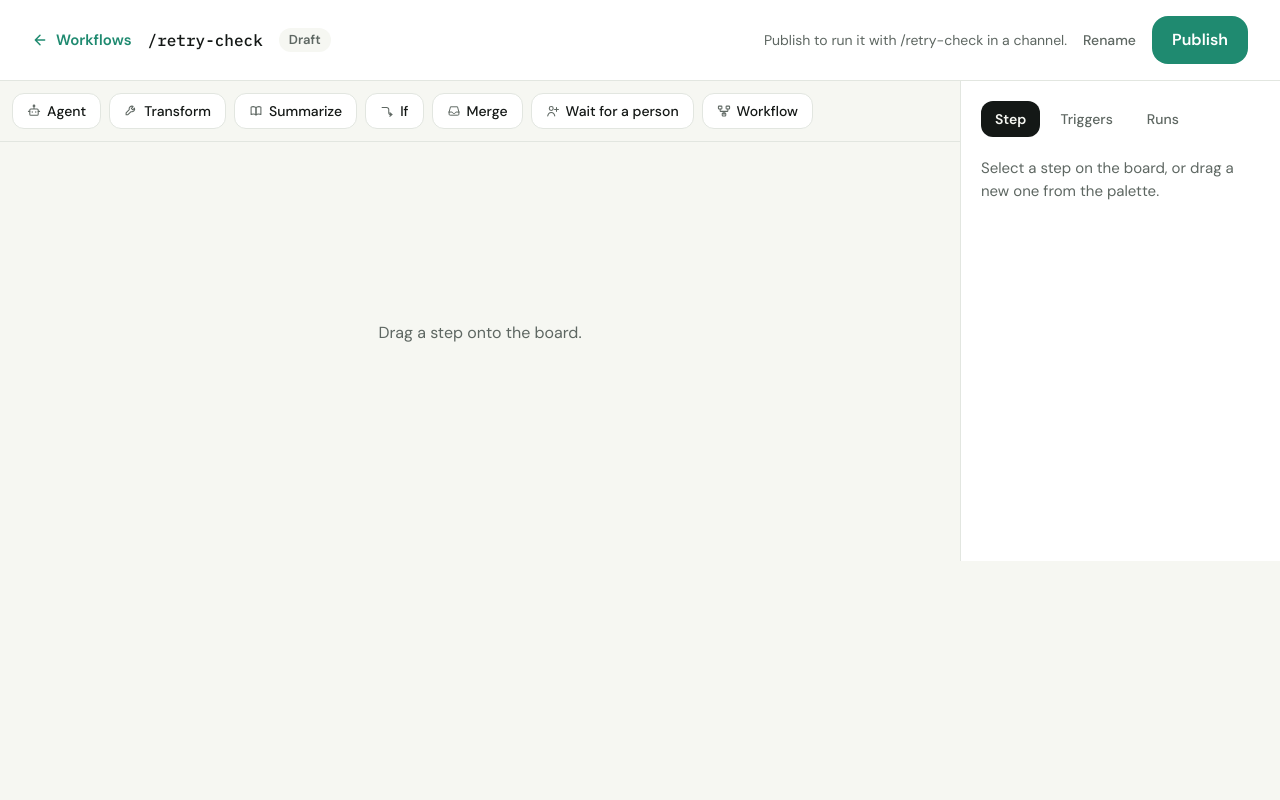
Scenario: workflows/[id]/+page.svelte › publishes a draft from the header
Click the button "Publish" at [1200, 40], box [1152,16,1248,64]
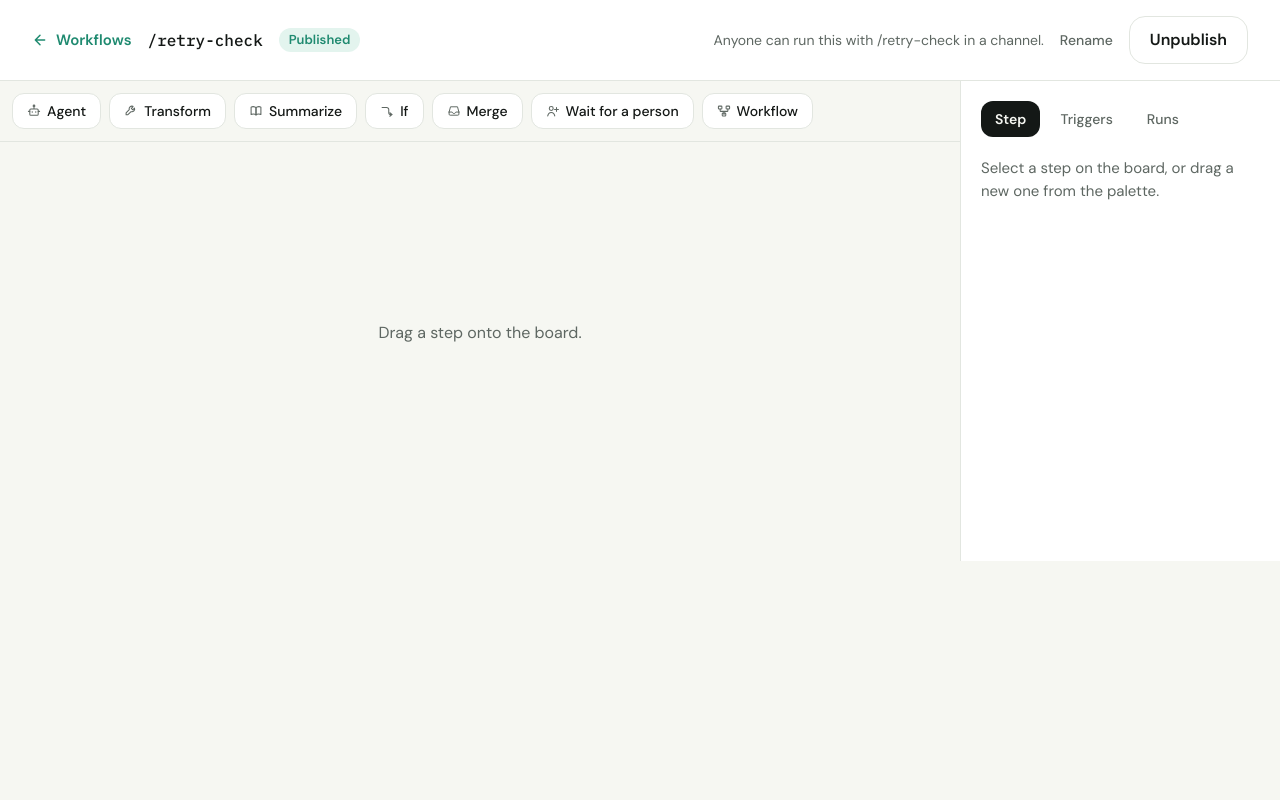
Now the text "Published" is shown, box [279,28,360,52]
